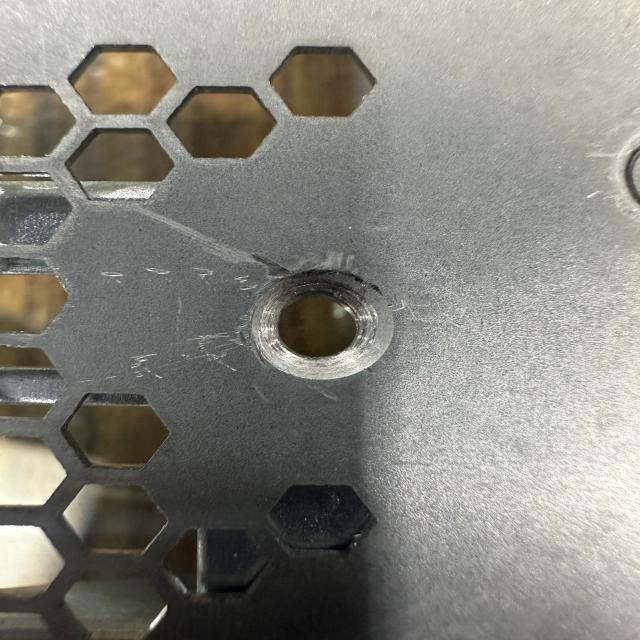Missing screw: (234, 264, 417, 392)
